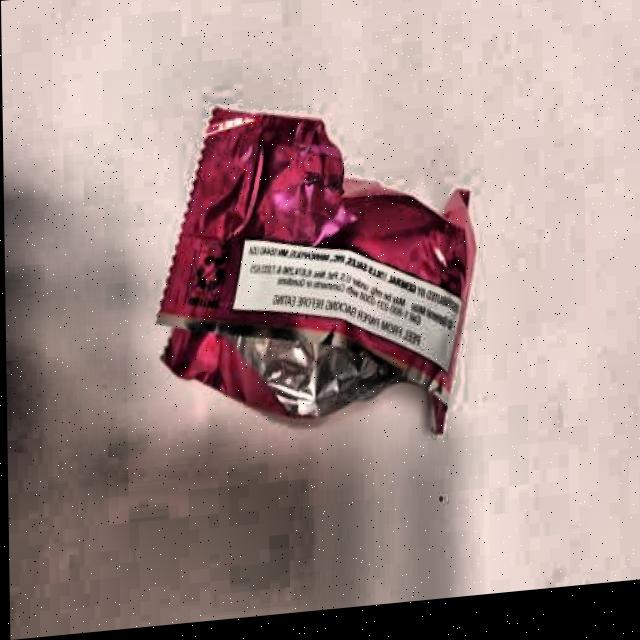plastic: (151, 80, 479, 463)
